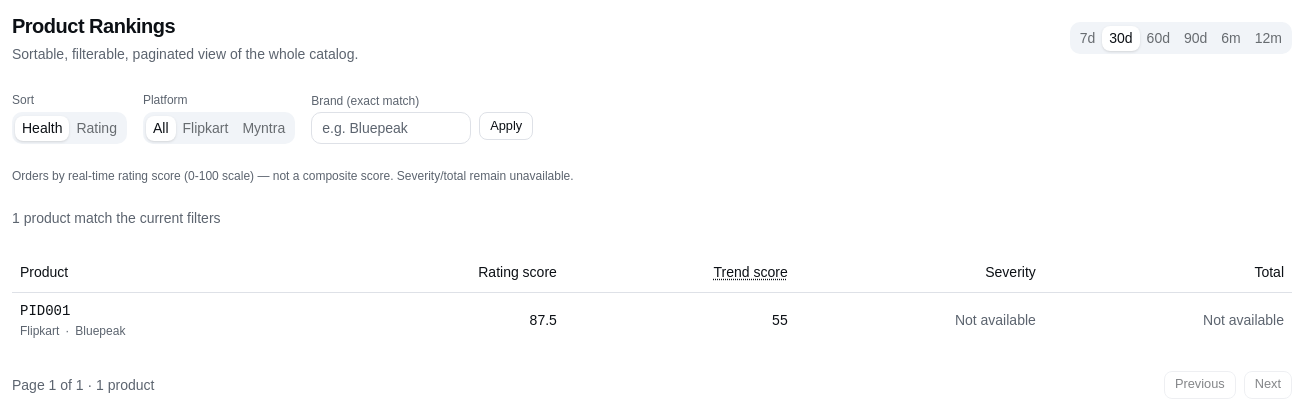
Test: Products / Rankings (Phase 7 Step 4) › 22. the Trend score header has an explanatory tooltip, not a computed trend value
Expected: the link "PID001" is shown, [20,302,70,318]
Hover over the button "Trend score" at (751, 272), box [714,262,788,282]
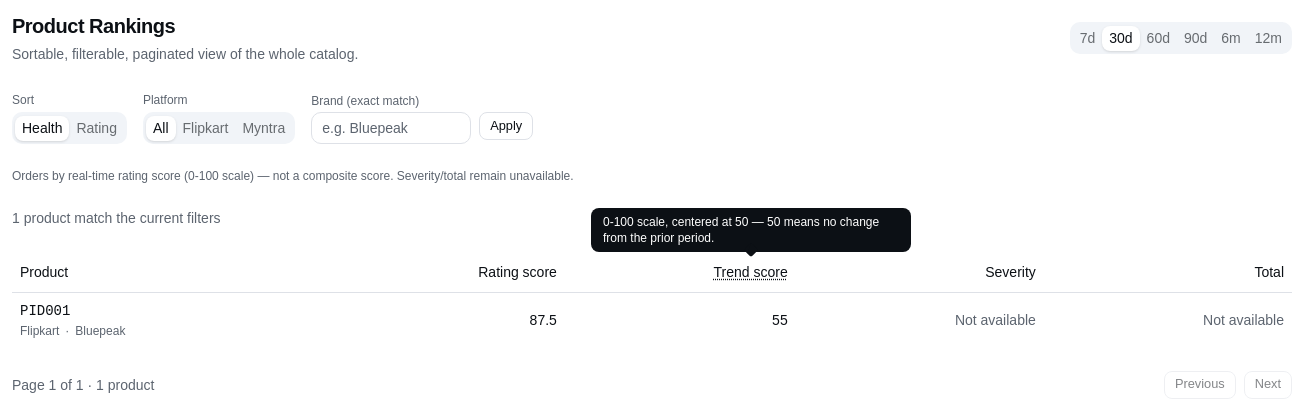
Result: the tooltip "centered at 50" is shown at [603,215,879,245]
